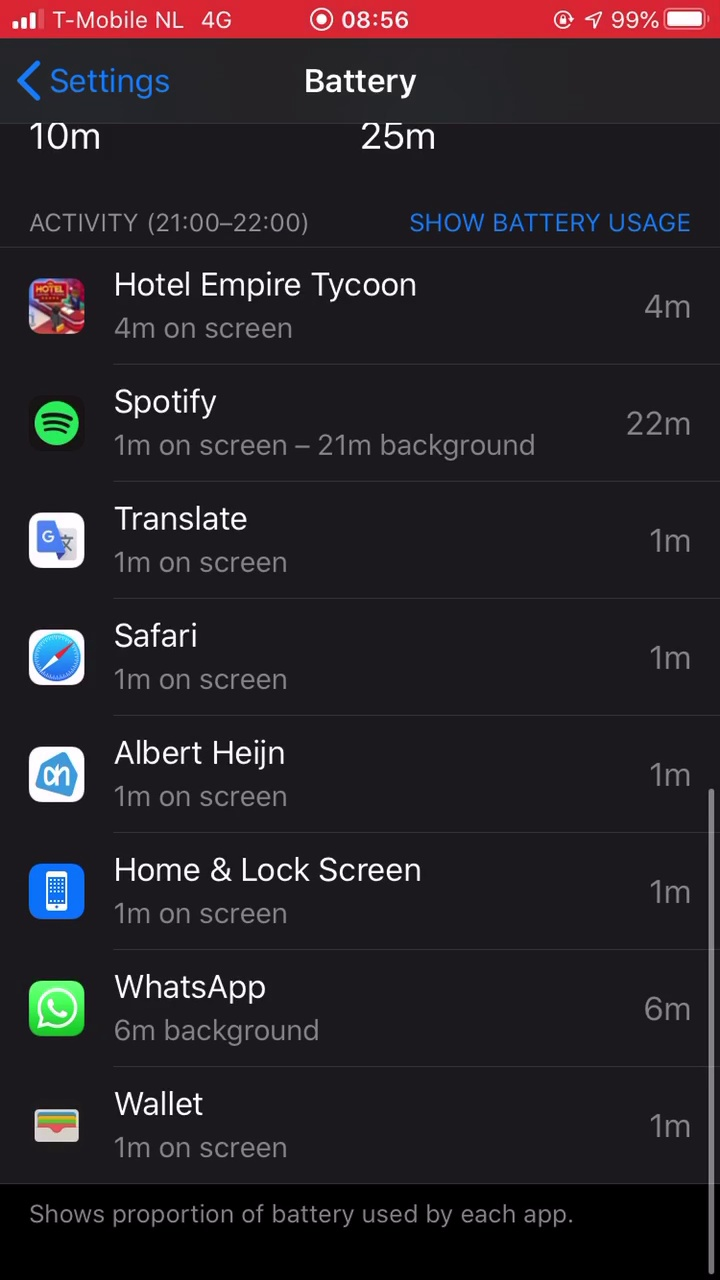activity: (11, 195, 322, 238)
app: (9, 256, 703, 350), (5, 378, 699, 472), (8, 494, 702, 588), (10, 613, 704, 707), (4, 725, 698, 819), (6, 843, 700, 937), (6, 957, 700, 1051), (8, 1080, 702, 1174)
